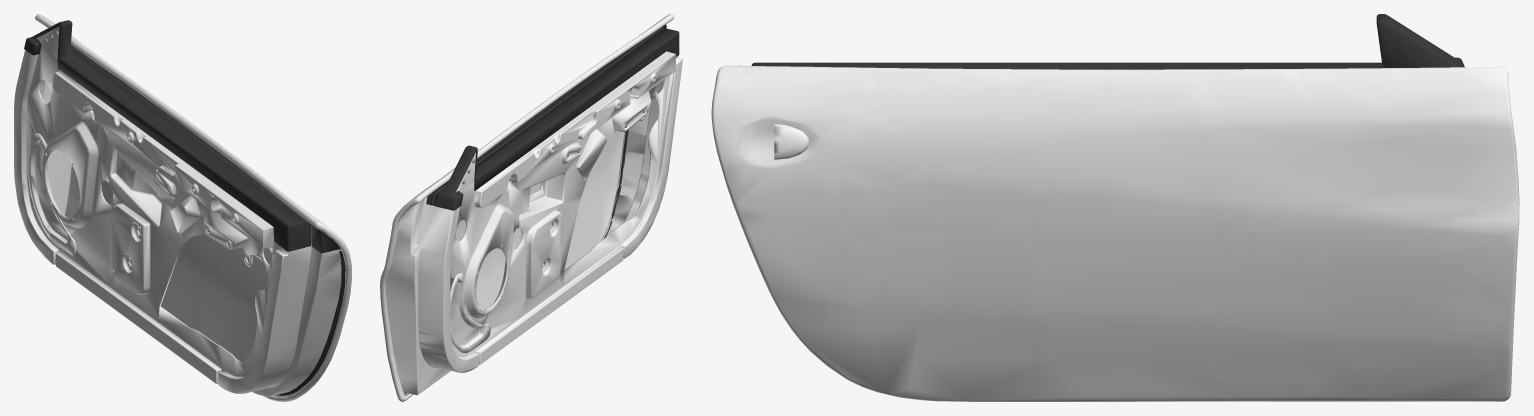
File: bodyPart_door_front_b01.glb
3 renders of one model, left to right at view 1: azimuth 30°, elevation 25°; view 2: azimuth 150°, elevation 25°; view 3: azimuth 270°, elevation 25°, orthographic. The views are drawn at different scales.
Parts seen in each view (by area): view 1: body_01_mesh_00; view 2: body_01_mesh_00; view 3: body_01_mesh_00.
Boxes of the visible parts, left/top/right/bottom form: body_01_mesh_00: left=14, top=14, right=351, bottom=401; body_01_mesh_00: left=380, top=14, right=682, bottom=401; body_01_mesh_00: left=711, top=14, right=1519, bottom=401.
Bounding box in the file's own units: 0.2027 × 0.695 × 1.41.
3 materials, 3 textured.
